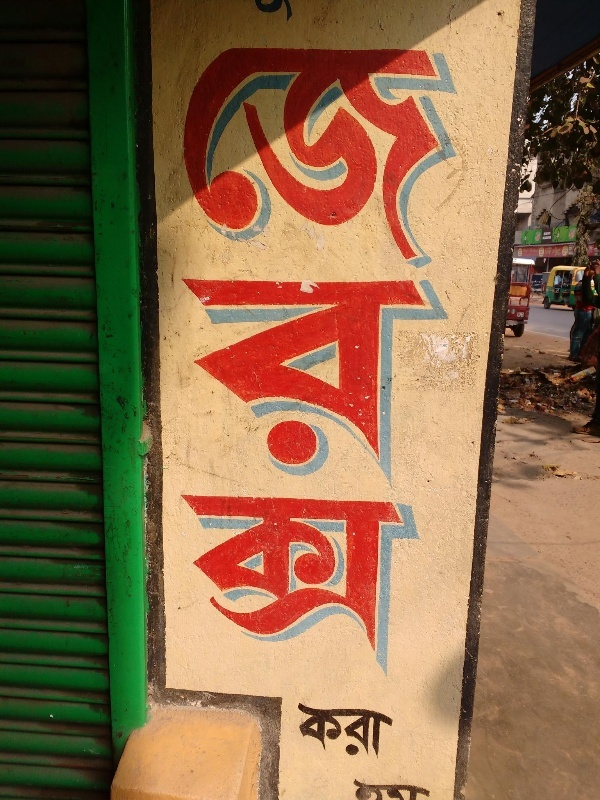text: (193, 28, 208, 686), (209, 28, 224, 686), (225, 28, 240, 686), (241, 28, 256, 686), (257, 28, 272, 686), (273, 28, 288, 686), (289, 28, 304, 686), (305, 28, 320, 686), (321, 28, 336, 686), (337, 28, 352, 686), (353, 28, 368, 686), (369, 28, 384, 686), (385, 28, 400, 686), (401, 28, 416, 686), (417, 28, 432, 686), (433, 28, 448, 686), (449, 28, 464, 686), (183, 28, 192, 686), (465, 28, 467, 686), (385, 703, 401, 759), (305, 703, 320, 759), (321, 703, 336, 759), (337, 703, 352, 759), (353, 703, 368, 759), (369, 703, 384, 759), (295, 703, 304, 759), (353, 779, 368, 795), (369, 779, 384, 795), (385, 779, 400, 795), (401, 779, 416, 795), (417, 779, 432, 795), (433, 779, 434, 795)
